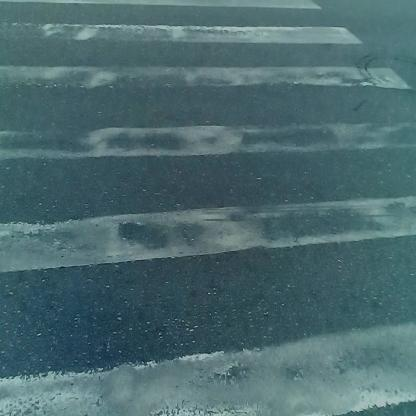crosswalk: (1, 26, 402, 416)
